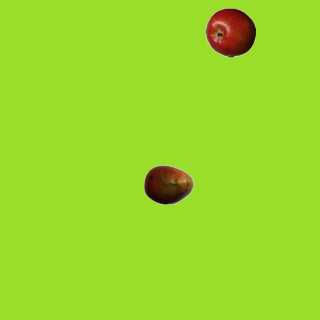Apple Braeburn: (205, 7, 255, 57)
Mango Red: (143, 159, 193, 209)
